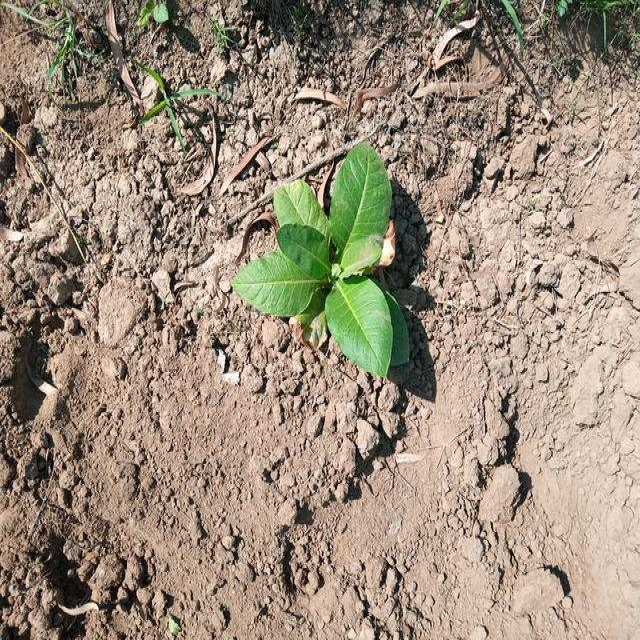crop: (228, 142, 386, 382)
